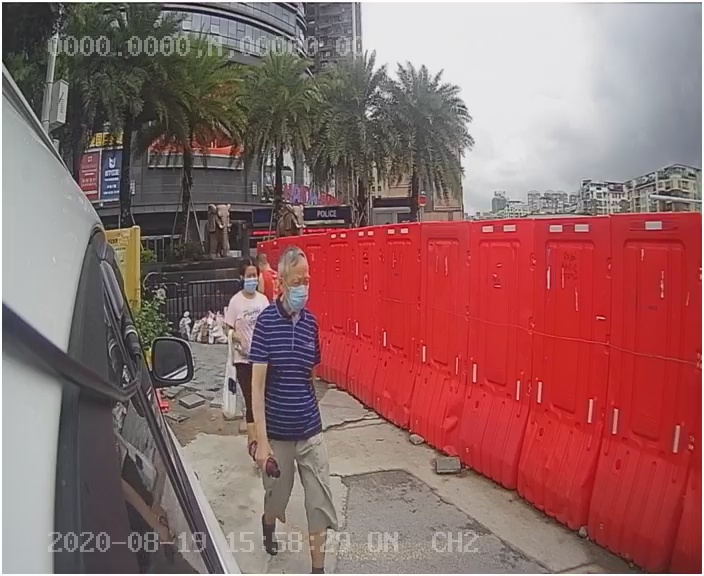person: (236, 249, 372, 537)
